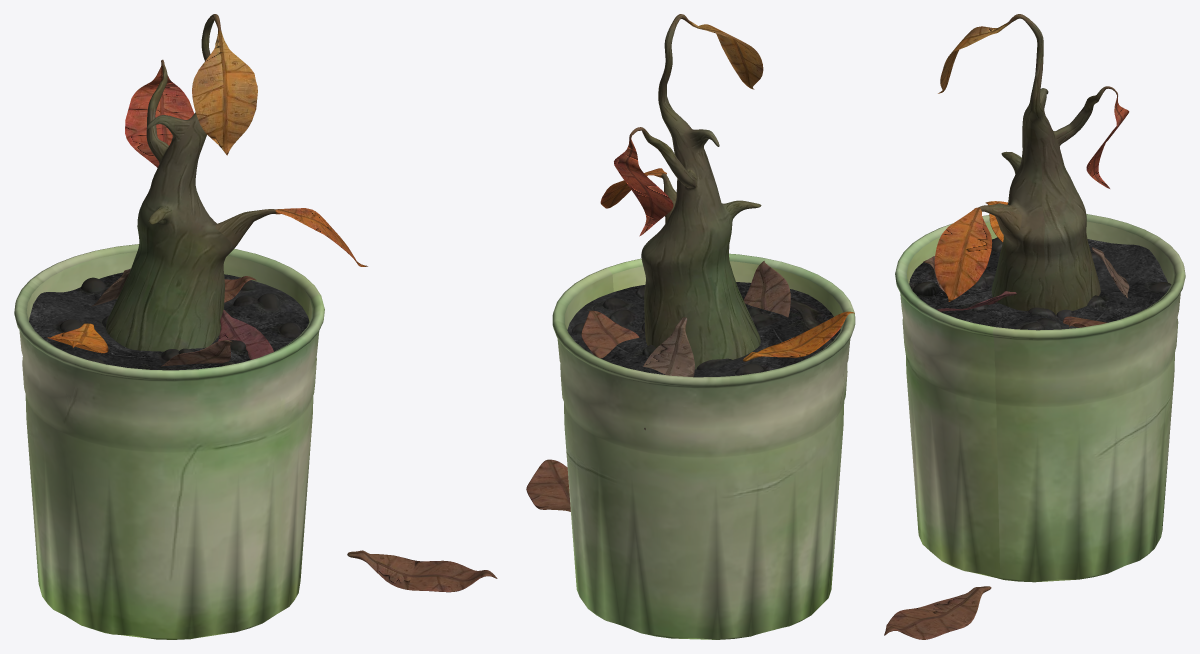
File: dried_potted_plant.glb
3 views of the same model, side by side, from view 1: azimuth 30°, elevation 25°; view 2: azimuth 150°, elevation 25°; view 3: azimuth 270°, elevation 25° (orthographic). The views are drawn at different scales.
Parts seen in each view (by area): view 1: Flower_Pot, Flower, Dirt, Leave_6, Leave_2, Leave_5, Leave_1; view 2: Flower_Pot, Flower, Dirt, Leave_6, Leave_4, Leave_1, Leave_5, Leave_3; view 3: Flower_Pot, Flower, Dirt, Leave_6, Leave_4.
Part boxes in pixels (x1=…): Flower_Pot: x1=14, y1=244, x2=324, y2=639; Flower: x1=106, y1=14, x2=367, y2=351; Dirt: x1=29, y1=272, x2=309, y2=370; Leave_6: x1=347, y1=550, x2=497, y2=592; Leave_2: x1=218, y1=310, x2=273, y2=359; Leave_5: x1=161, y1=340, x2=232, y2=366; Leave_1: x1=47, y1=323, x2=108, y2=353; Flower_Pot: x1=552, y1=253, x2=855, y2=639; Flower: x1=600, y1=14, x2=763, y2=369; Dirt: x1=567, y1=282, x2=840, y2=377; Leave_6: x1=526, y1=459, x2=570, y2=511; Leave_4: x1=643, y1=317, x2=694, y2=429; Leave_1: x1=743, y1=311, x2=854, y2=361; Leave_5: x1=743, y1=261, x2=790, y2=317; Leave_3: x1=581, y1=310, x2=639, y2=358; Flower_Pot: x1=895, y1=214, x2=1185, y2=582; Flower: x1=934, y1=14, x2=1129, y2=314; Dirt: x1=909, y1=237, x2=1171, y2=330; Leave_6: x1=884, y1=586, x2=991, y2=639; Leave_4: x1=1091, y1=247, x2=1129, y2=297.
Size of the model in its own units: 0.3636 by 0.5236 by 0.2676.
Materials: 2 (2 with a texture image).
